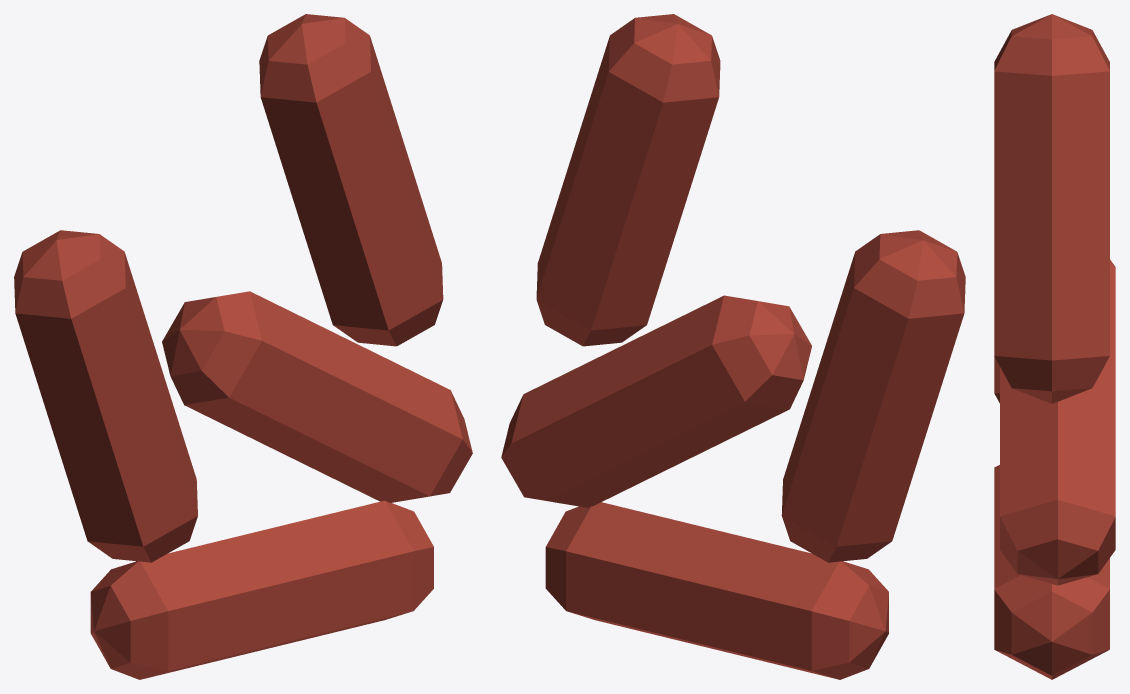
The model's file is SM_Prop_Evidence_Bag_01_Insert_01.fbx.
3 renders of one model, left to right at view 1: azimuth 30°, elevation 25°; view 2: azimuth 150°, elevation 25°; view 3: azimuth 270°, elevation 25°, orthographic.
Parts seen in each view (by area): view 1: SM_Prop_Evidence_Bag_01_Insert_01; view 2: SM_Prop_Evidence_Bag_01_Insert_01; view 3: SM_Prop_Evidence_Bag_01_Insert_01.
Boxes of the visible parts, x1,y1,x2,y2 form: SM_Prop_Evidence_Bag_01_Insert_01: [14, 14, 472, 679]; SM_Prop_Evidence_Bag_01_Insert_01: [501, 14, 965, 679]; SM_Prop_Evidence_Bag_01_Insert_01: [994, 14, 1115, 679].
Size of the model in its own units: 4.76 by 6.2 by 1.09.
